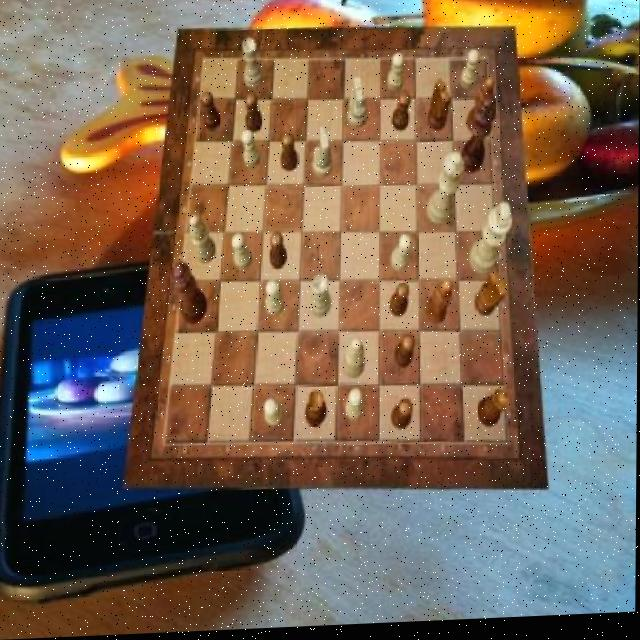bishop: (467, 81, 495, 140), (426, 282, 453, 329)
black-bishop: (460, 98, 496, 178)
black-king: (475, 275, 508, 322), (429, 81, 452, 136)
black-knight: (201, 92, 220, 133), (392, 96, 411, 136), (391, 402, 414, 434), (395, 336, 416, 371), (391, 286, 411, 321), (247, 95, 264, 136), (281, 136, 298, 175), (271, 234, 288, 271)
black-pawn: (172, 263, 209, 327)
black-queen: (477, 393, 511, 432), (305, 392, 328, 430)
black-rook: (189, 215, 216, 265), (344, 341, 367, 382)
white-bishop: (469, 207, 513, 281)
white-king: (347, 81, 367, 134), (313, 130, 333, 182)
white-knight: (461, 54, 481, 95), (392, 238, 413, 276), (242, 131, 261, 172), (232, 236, 253, 272), (266, 282, 285, 319), (345, 390, 365, 425), (387, 57, 404, 96), (265, 401, 285, 429)
white-pawn: (426, 154, 464, 230)
white-queen: (242, 40, 264, 92), (312, 279, 332, 321)
